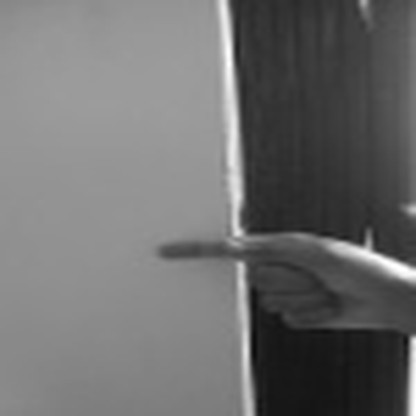g: (151, 218, 401, 338)
